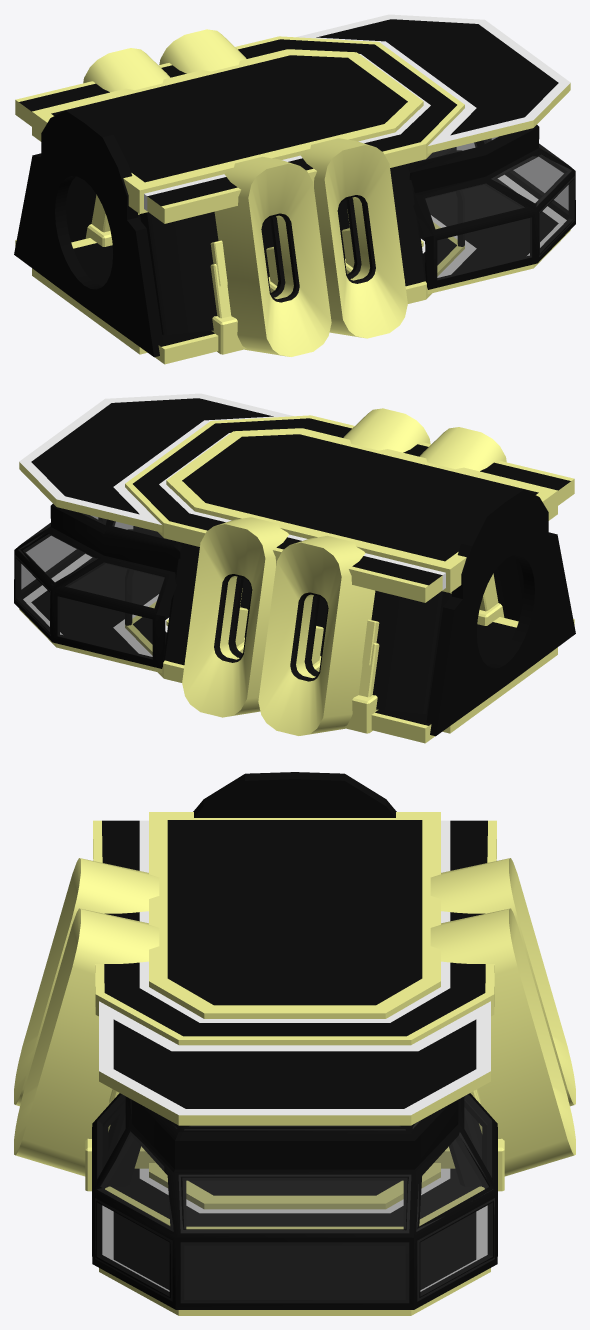
Rendered from Sala_Exterior_01.FBX.
The picture shows the model from 3 angles, top to bottom: view 1: azimuth 30°, elevation 25°; view 2: azimuth 150°, elevation 25°; view 3: azimuth 270°, elevation 25°; orthographic projection. The views are drawn at different scales.
Visible parts, largest first — view 1: Box019, Line010; view 2: Box019, Line010; view 3: Box019, Line010.
Part boxes in pixels (left/top/right/bottom): Box019: left=15, top=14, right=575, bottom=364; Line010: left=14, top=108, right=163, bottom=357; Box019: left=14, top=393, right=574, bottom=743; Line010: left=426, top=487, right=575, bottom=736; Box019: left=14, top=812, right=575, bottom=1315; Line010: left=193, top=772, right=396, bottom=817.
Bounding box in the file's own units: 1708 × 725 × 1368.
